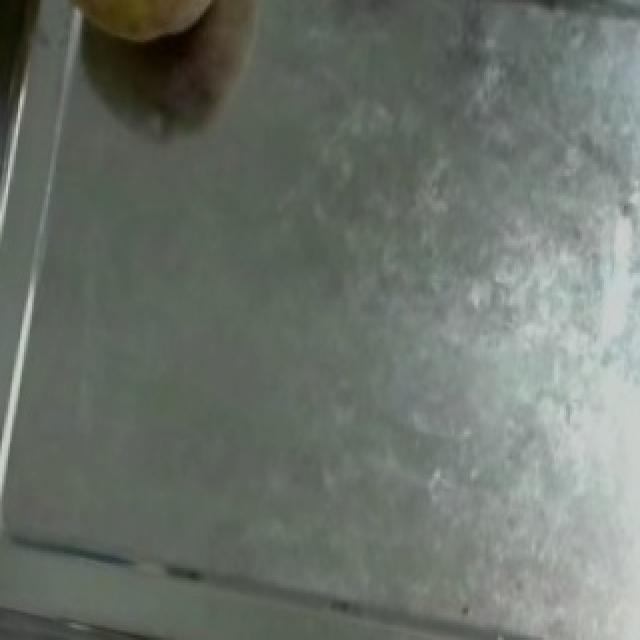Fruit: (50, 0, 260, 67)
